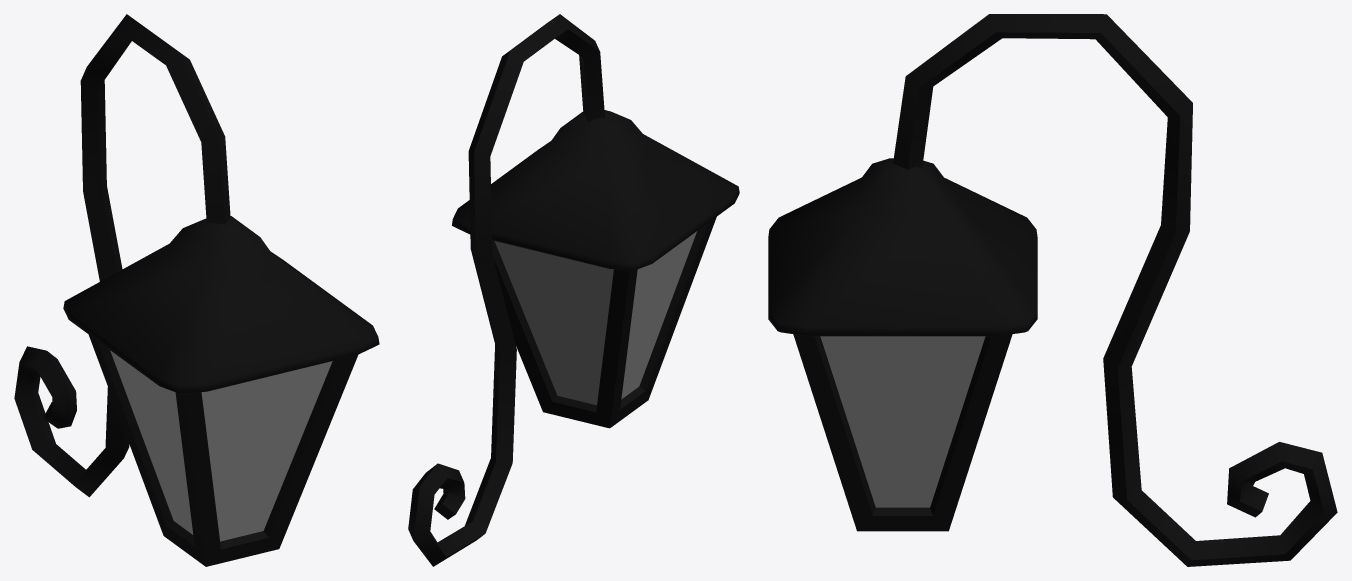
File: WallLamp.FBX
The picture shows the model from 3 angles, left to right: view 1: azimuth 30°, elevation 25°; view 2: azimuth 150°, elevation 25°; view 3: azimuth 270°, elevation 25°; orthographic projection. The views are drawn at different scales.
Parts seen in each view (by area): view 1: Box069; view 2: Box069; view 3: Box069.
Boxes of the visible parts, x1,y1,x2,y2 form: Box069: [14, 14, 379, 566]; Box069: [408, 14, 739, 566]; Box069: [768, 14, 1337, 566].
Size of the model in its own units: 3.99 by 9.04 by 8.43.
2 materials, 1 textured.
